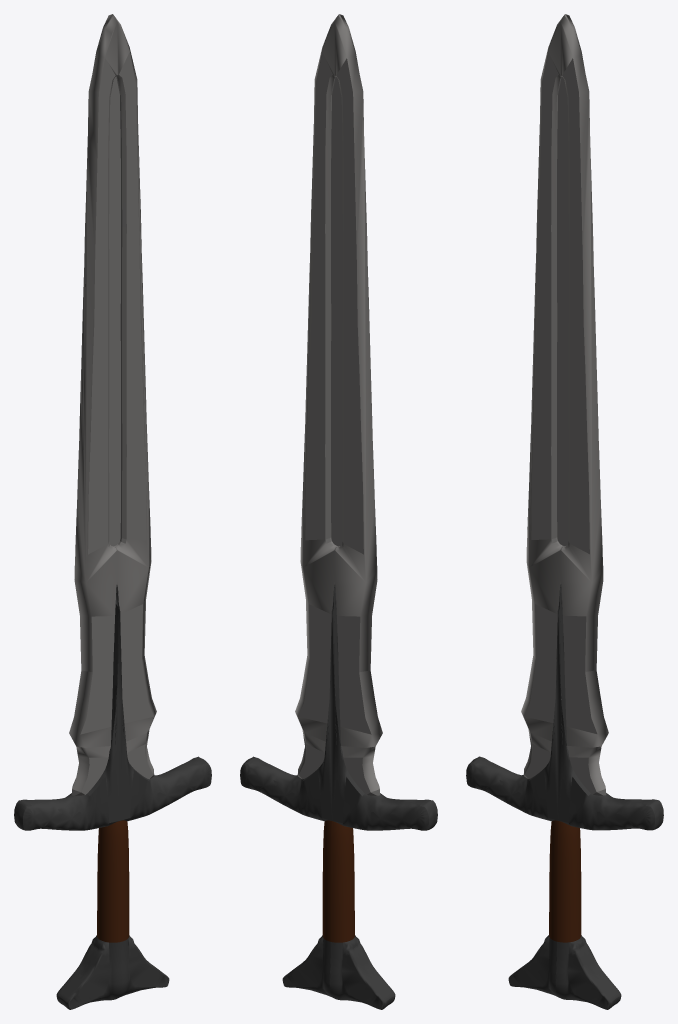
File: swordfinal.glb
3 renders of one model, left to right at view 1: azimuth 30°, elevation 25°; view 2: azimuth 150°, elevation 25°; view 3: azimuth 330°, elevation 25°, orthographic.
Visible parts, largest first — view 1: Blade, Hilt, Bottom, Handle; view 2: Blade, Hilt, Bottom, Handle; view 3: Blade, Hilt, Bottom, Handle.
Part boxes in pixels (x1=…): Blade: x1=69, y1=14, x2=156, y2=795; Hilt: x1=14, y1=585, x2=211, y2=830; Bottom: x1=56, y1=935, x2=169, y2=1009; Handle: x1=97, y1=820, x2=129, y2=942; Blade: x1=295, y1=14, x2=382, y2=795; Hilt: x1=240, y1=585, x2=437, y2=830; Bottom: x1=282, y1=935, x2=395, y2=1009; Handle: x1=322, y1=820, x2=354, y2=942; Blade: x1=521, y1=14, x2=608, y2=795; Hilt: x1=466, y1=584, x2=663, y2=830; Bottom: x1=508, y1=935, x2=621, y2=1009; Handle: x1=549, y1=820, x2=581, y2=942.
Bounding box in the file's own units: 1.26 × 6.21 × 0.2136.
